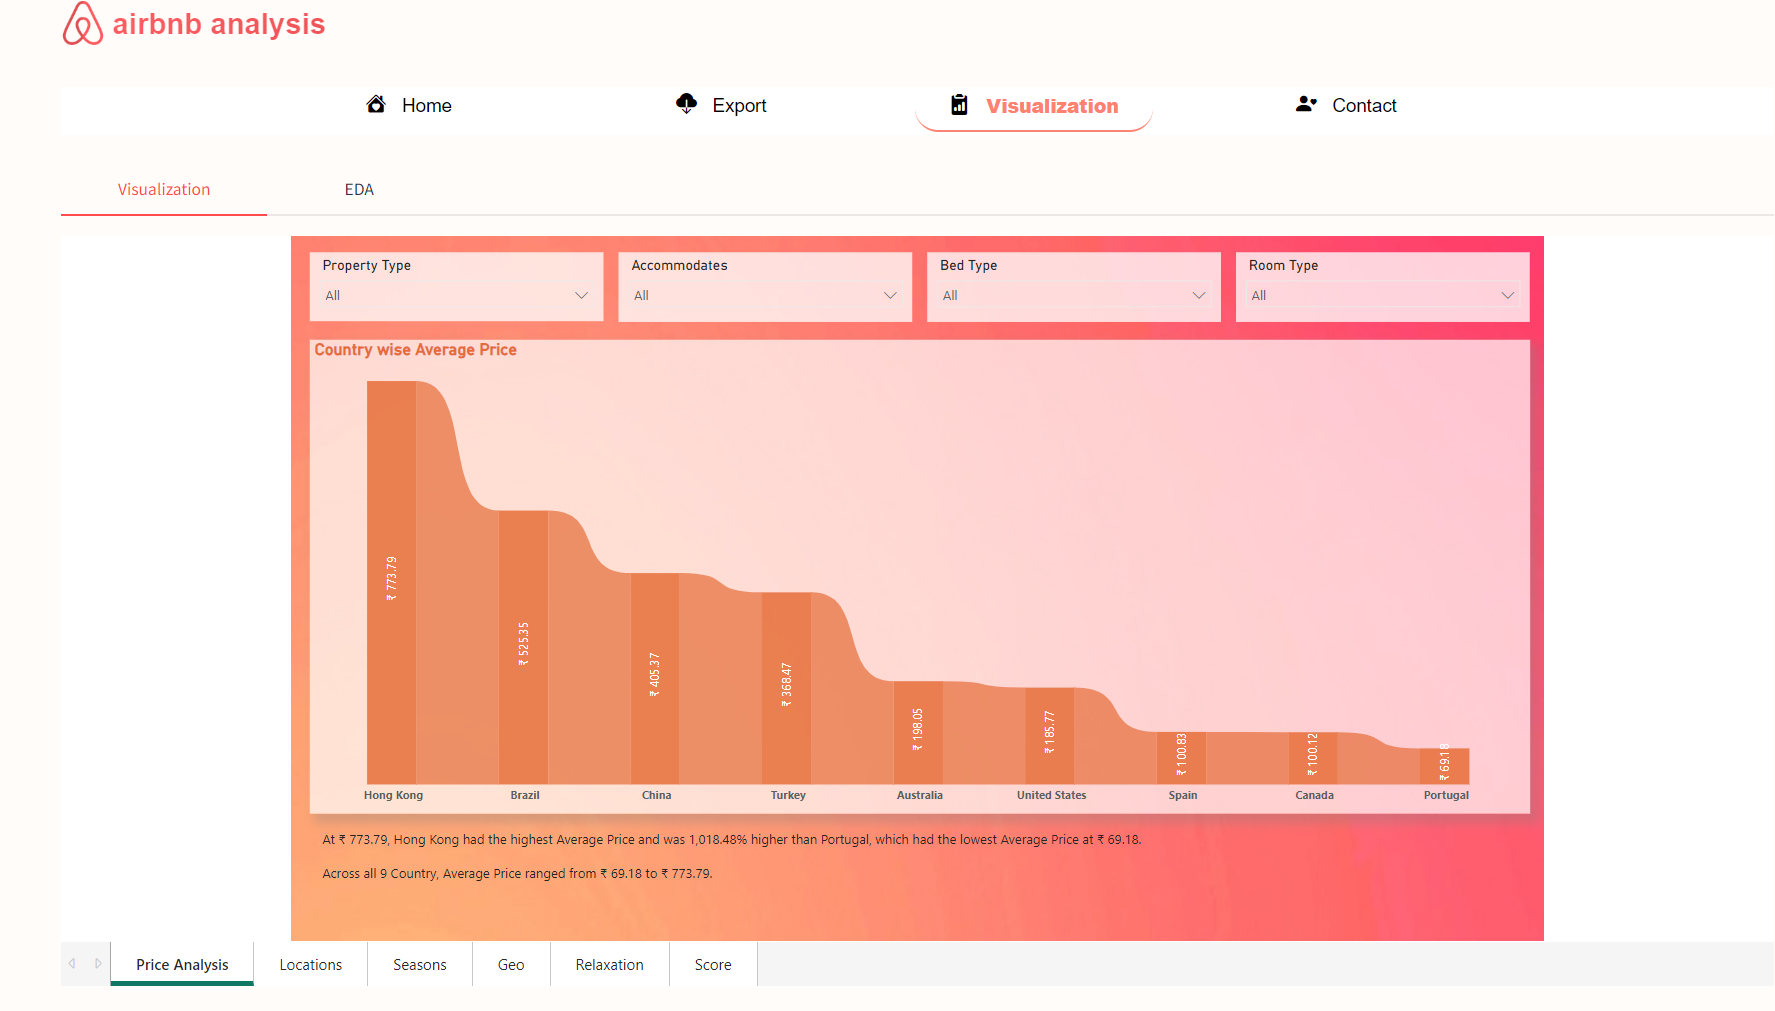

The dashboard page shown, as its layout file describes it:
{"tool":"powerbi","page":{"name":"Price Analysis","canvas":[1280,720],"ordinal":0},"visuals":[{"type":"slicer","fields":{"Values":["airbnb_data.Bed_Type"]},"box":[650.2,16.6,300,71],"z":0},{"type":"slicer","fields":{"Values":["airbnb_data.Property_Type"]},"box":[19.5,17.1,300,70],"z":1000},{"type":"slicer","fields":{"Values":["airbnb_data.Room_Type"]},"box":[965.6,16.6,300,71],"z":2000},{"type":"slicer","fields":{"Values":["airbnb_data.Accommodates"]},"box":[334.8,16.6,300,71],"z":3000},{"type":"ribbonChart","title":"Country wise Average Price","fields":{"Y":["Measure_Tbl._Average"],"Category":["airbnb_data.Country Hierarchy.Country","airbnb_data.Country Hierarchy.Market","airbnb_data.Country Hierarchy.Government_Area","airbnb_data.Country Hierarchy.Suburb"]},"box":[19.5,105.7,1246.6,484.2],"z":4000},{"type":"textbox","box":[27.4,601.7,1246.3,118.3],"z":5000}]}

Visuals, with their boxes on the page's 1280x720 design canvas (x1, y1, x2, y2). These are canvas units, not pixel positions in the 1775x1011 screenshot, which may show the page scaled, cropped or inside an application window:
slicer - airbnb_data.Bed_Type: box=[650, 17, 950, 88]
slicer - airbnb_data.Property_Type: box=[20, 17, 320, 87]
slicer - airbnb_data.Room_Type: box=[966, 17, 1266, 88]
slicer - airbnb_data.Accommodates: box=[335, 17, 635, 88]
"Country wise Average Price" ribbonChart: box=[20, 106, 1266, 590]
textbox: box=[27, 602, 1274, 720]
